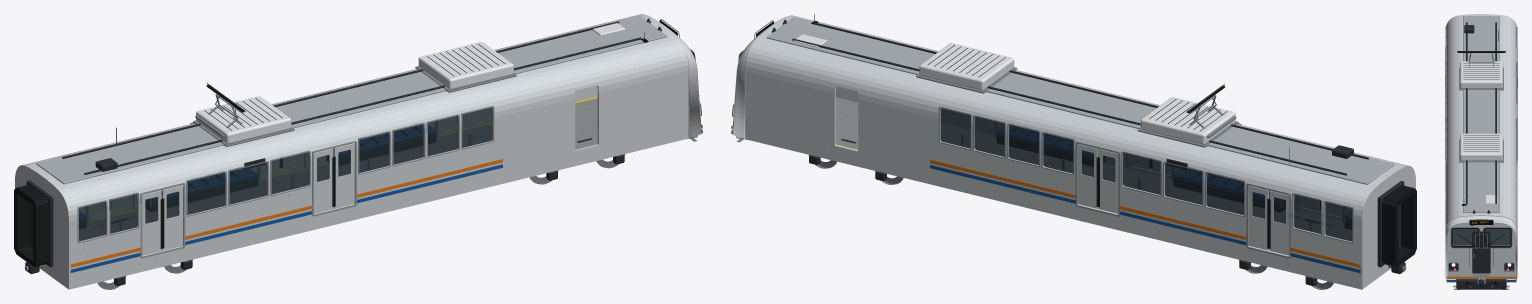
Rendered from train_313_cab.glb.
3 views of the same model, side by side, from view 1: azimuth 30°, elevation 25°; view 2: azimuth 150°, elevation 25°; view 3: azimuth 270°, elevation 25° (orthographic). The views are drawn at different scales.
Visible parts, largest first — view 1: Body, Parts_Roof, Parts_WindowGlass, Parts_UnderDark, Parts_RoofWhite, Parts_Floor, DoorLeaf (×4), Parts_BodyTrim, Parts_Rubber, Parts_Moquette, Parts_Steel, Parts_StripeOrange (+2 smaller); view 2: Body, Parts_Roof, Parts_WindowGlass, Parts_RoofWhite, Parts_UnderDark, Parts_Floor, DoorLeaf (×4), Parts_BodyTrim, Parts_Rubber, Parts_Steel, Parts_Moquette, Parts_StripeOrange (+2 smaller); view 3: Body, Parts_Roof, Parts_UnderDark, Parts_RoofWhite, Parts_Steel, Parts_WindowGlass, FrontCap, Parts_Rubber, Parts_BodyTrim, Parts_Black, Parts_StripeOrange, Parts_StripeBlue (+1 smaller).
Part boxes in pixels (box(x1,y1,x2,y2)): Body: box(15, 14, 688, 289); Parts_Roof: box(36, 16, 667, 184); Parts_WindowGlass: box(77, 107, 492, 241); Parts_UnderDark: box(25, 18, 697, 273); Parts_RoofWhite: box(196, 23, 625, 143); Parts_Floor: box(79, 96, 597, 250); DoorLeaf (×4): box(142, 143, 354, 255); Parts_BodyTrim: box(77, 106, 494, 258); Parts_Rubber: box(14, 50, 694, 266); Parts_Moquette: box(79, 121, 435, 219); Parts_Steel: box(25, 19, 701, 271); Parts_StripeOrange: box(70, 124, 702, 267); Body: box(745, 15, 1415, 289); Parts_Roof: box(766, 17, 1394, 184); Parts_WindowGlass: box(940, 108, 1353, 241); Parts_RoofWhite: box(793, 34, 1235, 144); Parts_UnderDark: box(736, 19, 1405, 273); Parts_Floor: box(836, 97, 1351, 250); DoorLeaf (×4): box(1078, 144, 1289, 255); Parts_BodyTrim: box(938, 106, 1353, 258); Parts_Rubber: box(739, 52, 1416, 266); Parts_Steel: box(732, 14, 1405, 271); Parts_Moquette: box(997, 122, 1352, 228); Parts_StripeOrange: box(731, 125, 1360, 267); Body: box(1445, 14, 1517, 277); Parts_Roof: box(1463, 16, 1499, 212); Parts_UnderDark: box(1445, 22, 1517, 289); Parts_RoofWhite: box(1460, 61, 1502, 203); Parts_Steel: box(1448, 30, 1514, 289); Parts_WindowGlass: box(1446, 27, 1516, 247); FrontCap: box(1445, 216, 1517, 280); Parts_Rubber: box(1451, 228, 1511, 285); Parts_BodyTrim: box(1445, 26, 1517, 168); Parts_Black: box(1457, 51, 1505, 283); Parts_StripeOrange: box(1446, 276, 1516, 278); Parts_StripeBlue: box(1446, 279, 1516, 282).
Bounding box in the file's own units: 20.96 × 4.71 × 2.98.
Materials: 20 (5 with a texture image).
